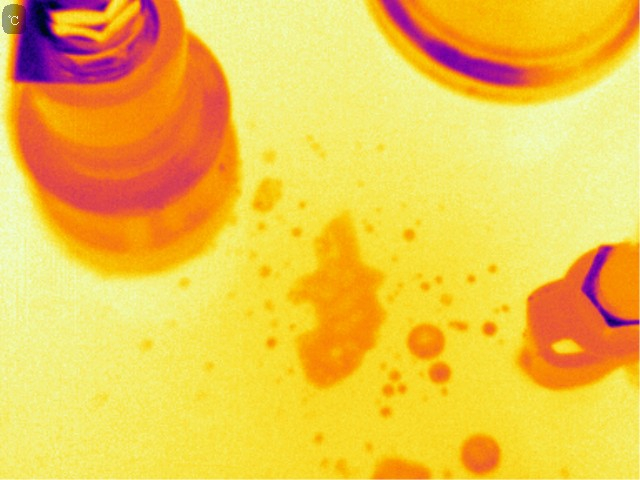Water: (285, 212, 394, 385), (460, 434, 503, 471), (408, 321, 444, 364), (374, 459, 431, 480), (254, 173, 283, 210), (317, 453, 357, 478), (429, 362, 460, 383), (253, 261, 272, 284), (415, 268, 430, 293), (377, 405, 402, 420), (308, 428, 326, 445), (482, 320, 498, 338), (381, 381, 395, 401), (487, 260, 502, 278), (174, 272, 189, 289), (262, 337, 276, 354), (403, 224, 416, 242), (437, 294, 453, 308), (389, 367, 403, 382), (395, 382, 410, 396), (464, 274, 478, 287), (289, 222, 300, 238), (435, 271, 445, 284), (285, 320, 296, 330)
